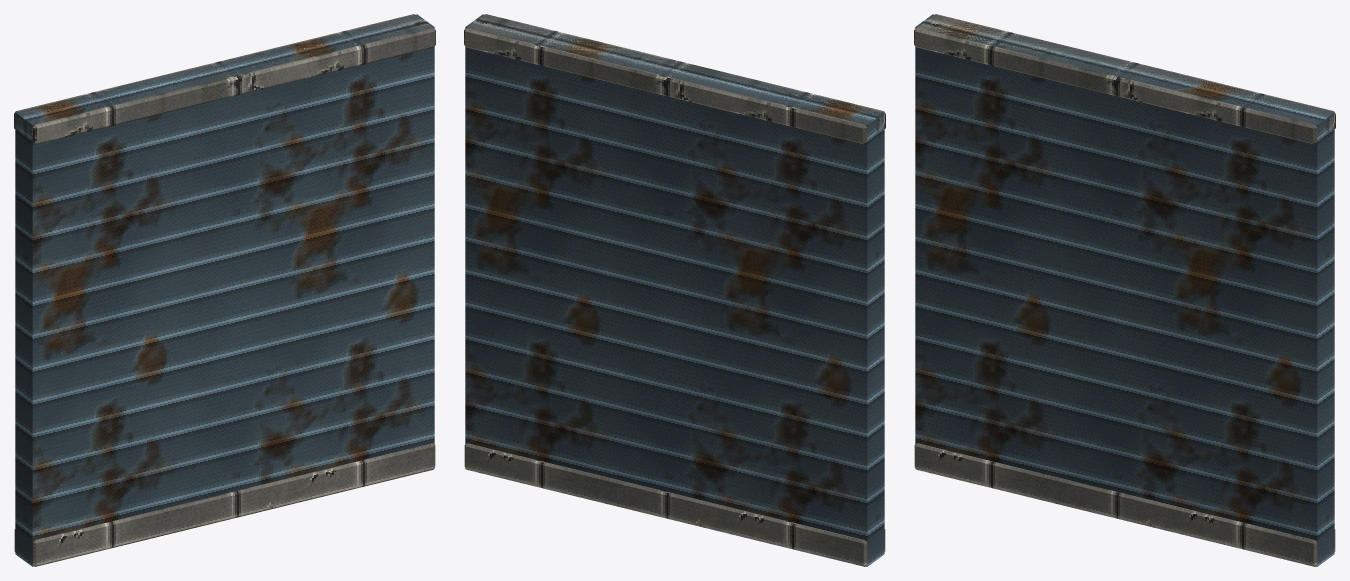
File: wall_siding_blue.glb
3 views of the same model, side by side, from view 1: azimuth 30°, elevation 25°; view 2: azimuth 150°, elevation 25°; view 3: azimuth 330°, elevation 25° (orthographic).
Parts seen in each view (by area): view 1: wall_siding_blue_mesh; view 2: wall_siding_blue_mesh; view 3: wall_siding_blue_mesh.
Part boxes in pixels (box(x1,y1,x2,y2)): wall_siding_blue_mesh: box(14, 14, 435, 566); wall_siding_blue_mesh: box(464, 14, 885, 566); wall_siding_blue_mesh: box(914, 14, 1335, 566).
Size of what is drawn, in the model's own units: 4 by 4.2 by 0.38.
2 materials, 2 textured.
